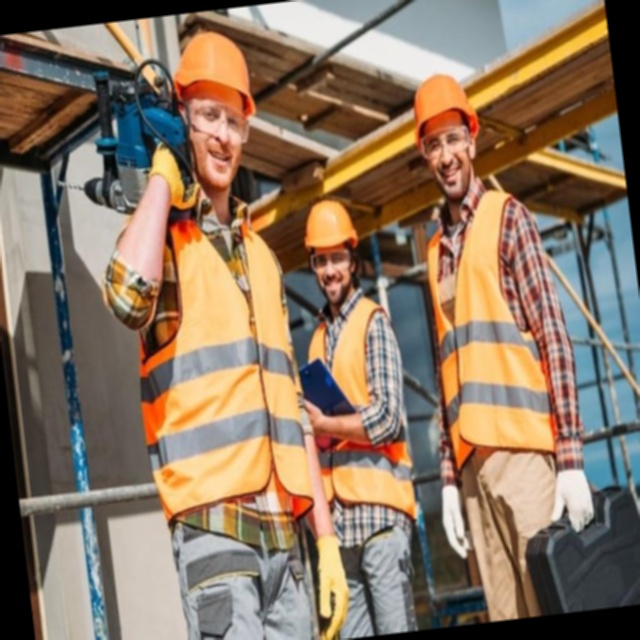goggles: (206, 81, 276, 148), (433, 143, 494, 176), (316, 250, 361, 276)
helmet: (192, 16, 281, 116), (431, 86, 503, 158), (311, 196, 368, 254)
vest: (129, 202, 297, 524), (426, 208, 543, 493), (294, 301, 396, 534)
